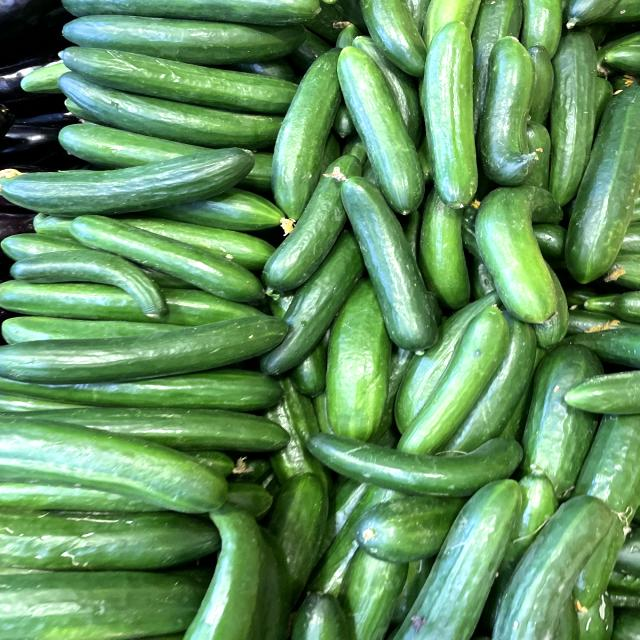cucumber: (316, 158, 448, 360), (0, 136, 281, 222), (389, 294, 527, 468), (411, 14, 496, 215)
